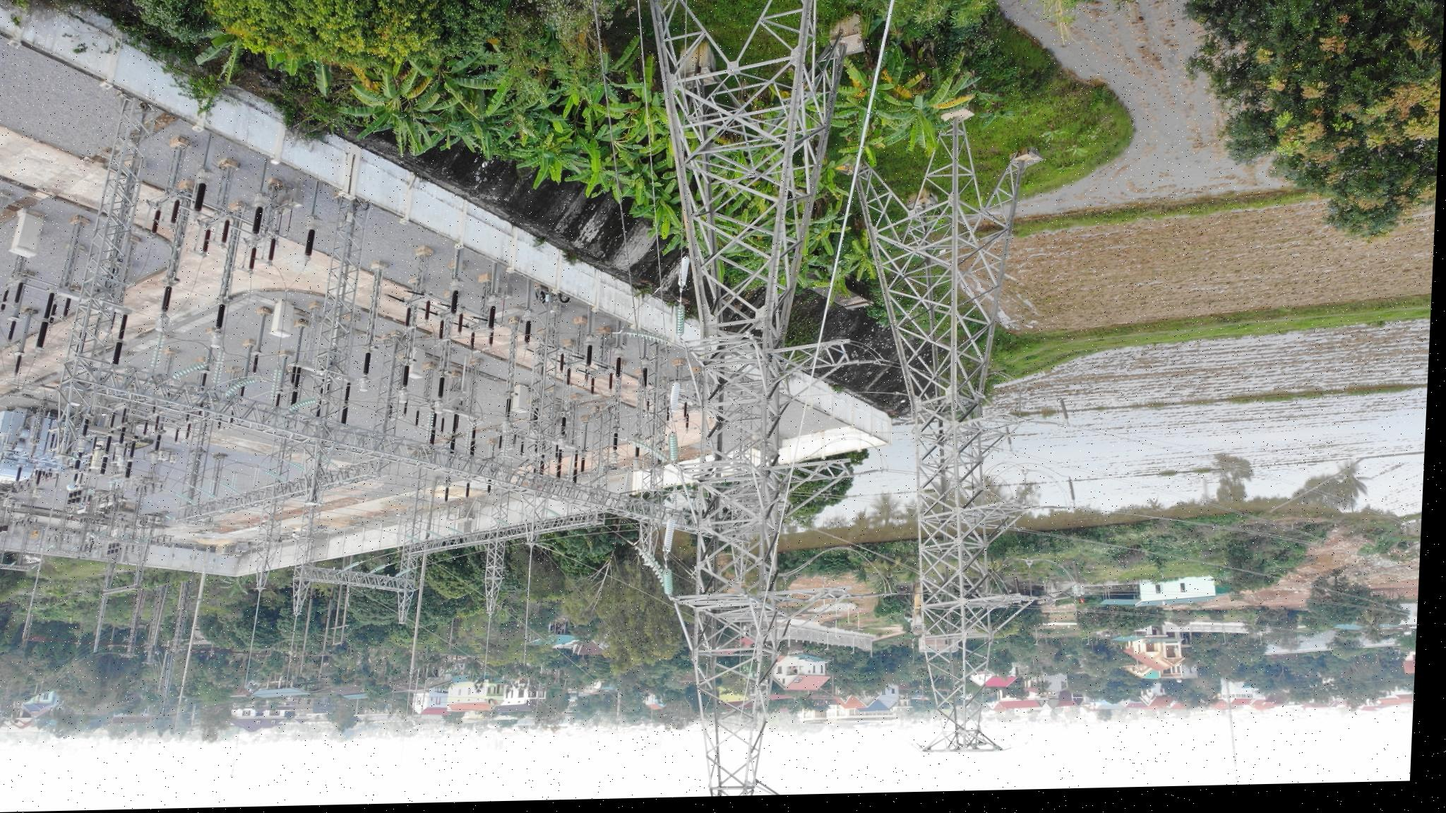tower: (581, 0, 884, 799), (824, 118, 1064, 765)
